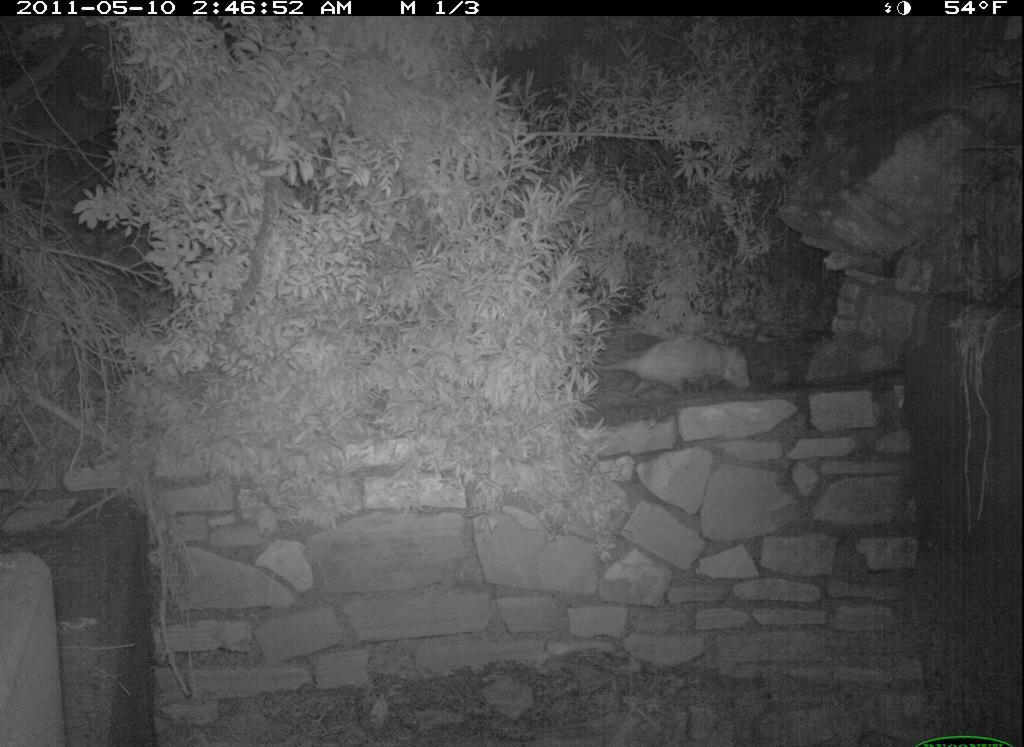opossum: (584, 326, 763, 405)
